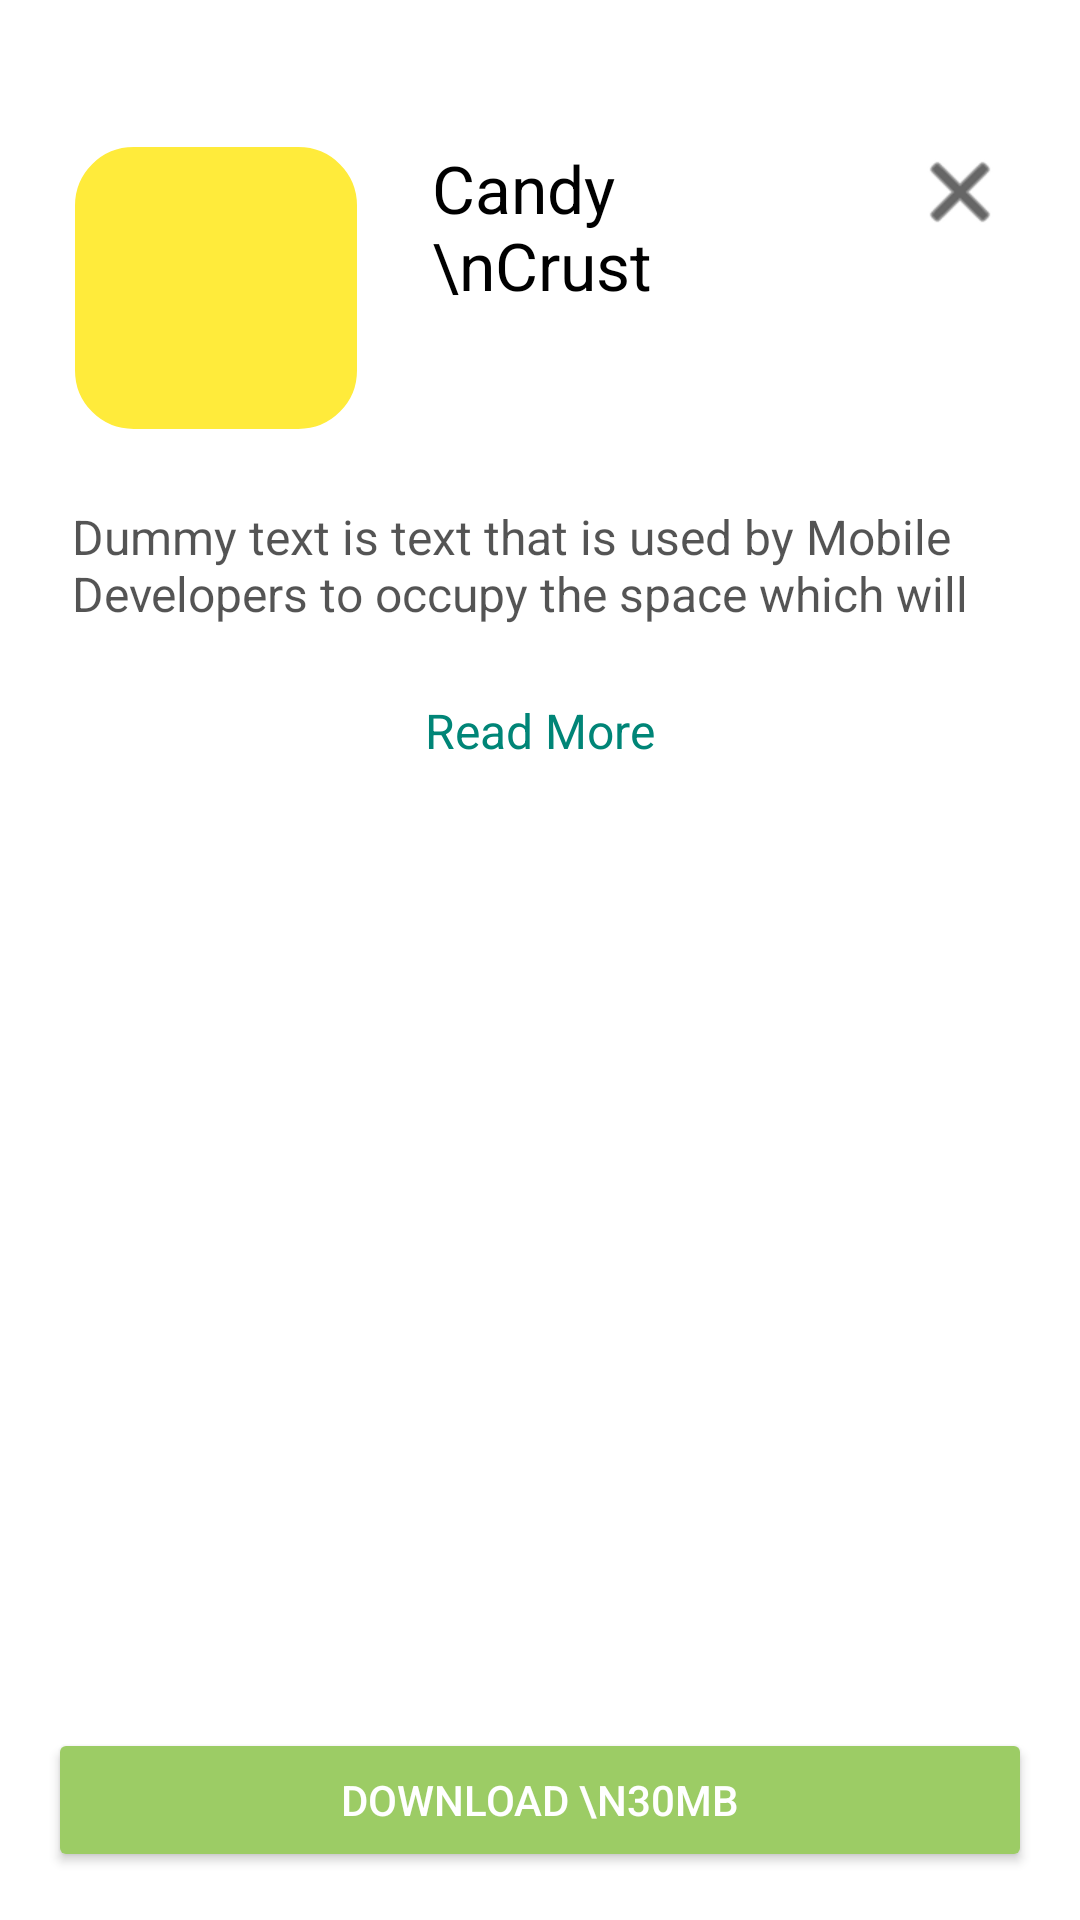

Screen size 1080 × 1920. Icon name, then its center in pixels as (x,y):
close clear cancel: (960,192)
